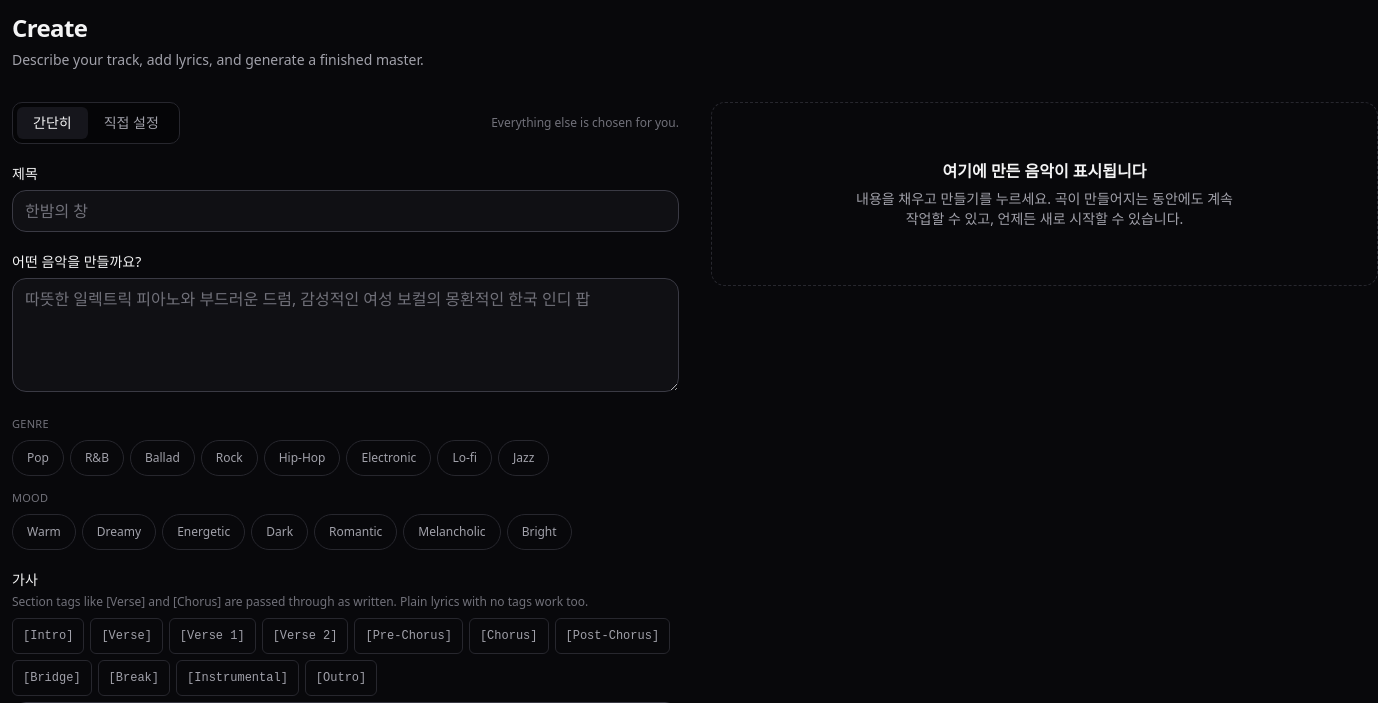
Scenario: prompt chips › edit the description the user can see
The image size is (1378, 703).
Click the button "Pop" at (38, 458), box [12,440,64,476]
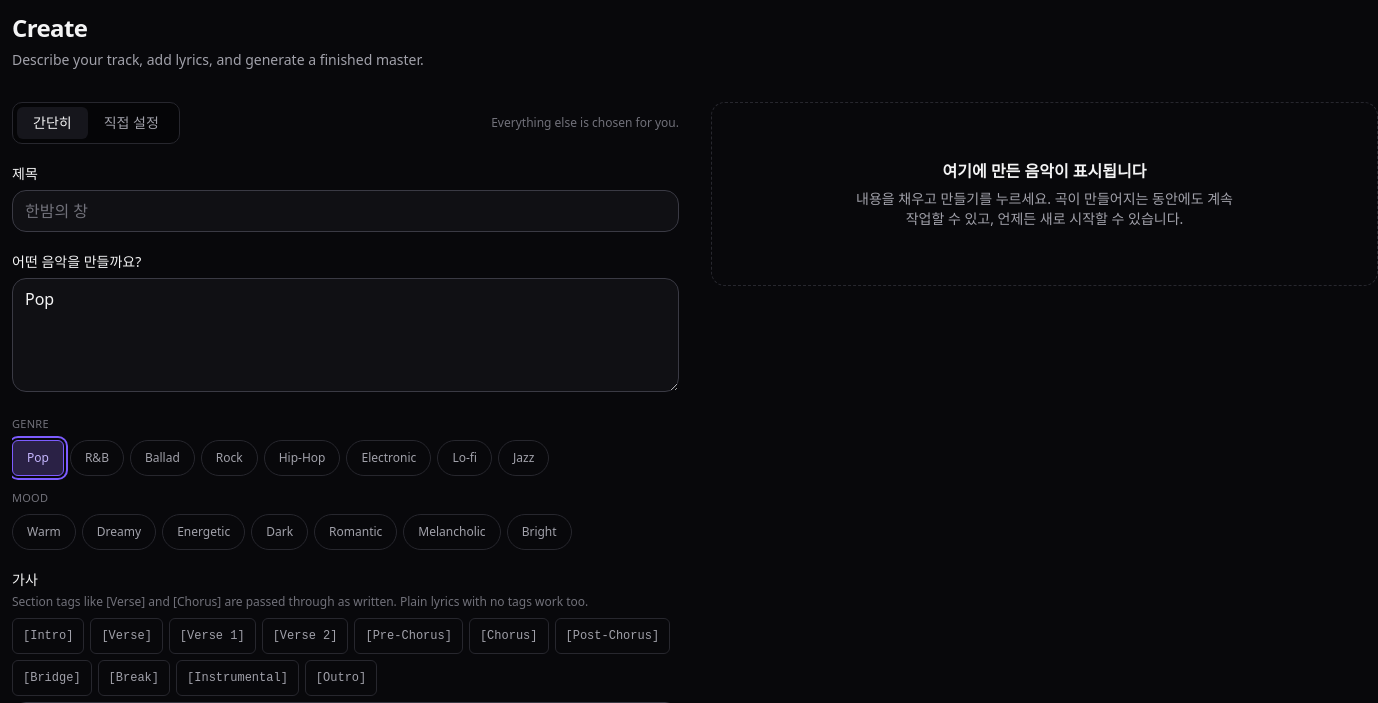
Expected: the text box labelled "어떤 음악을 만들까요?" holds "Pop", [12,278,679,392]
